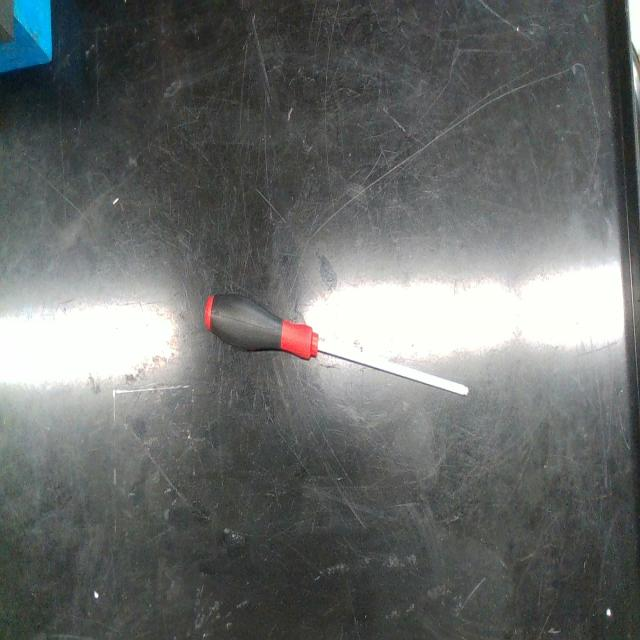Screwdriver: (205, 296, 469, 396)
